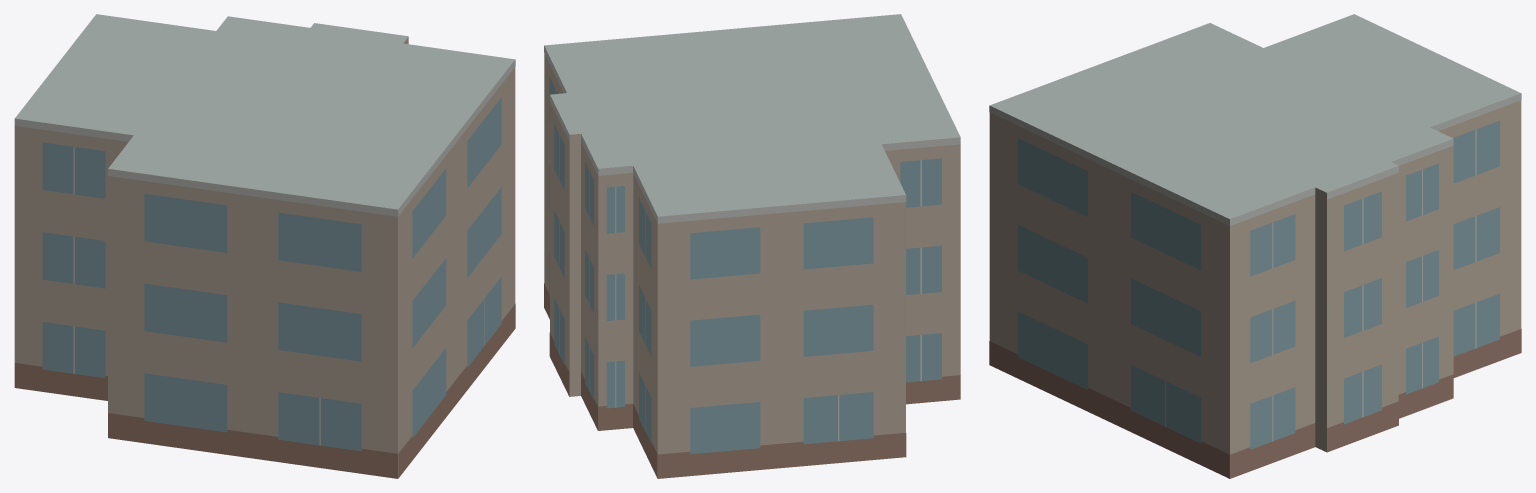
Rendered from survey-upis-32781316.glb.
3 renders of one model, left to right at view 1: azimuth 30°, elevation 25°; view 2: azimuth 150°, elevation 25°; view 3: azimuth 270°, elevation 25°, orthographic. The views are drawn at different scales.
Parts seen in each view (by area): view 1: survey-upis-32781316.tmp; view 2: survey-upis-32781316.tmp; view 3: survey-upis-32781316.tmp.
Part boxes in pixels (x1,y1,x2,y2): survey-upis-32781316.tmp: (14,14,515,478); survey-upis-32781316.tmp: (544,14,960,478); survey-upis-32781316.tmp: (989,14,1521,478).
Bounding box in the file's own units: 15.52 × 9.15 × 17.
